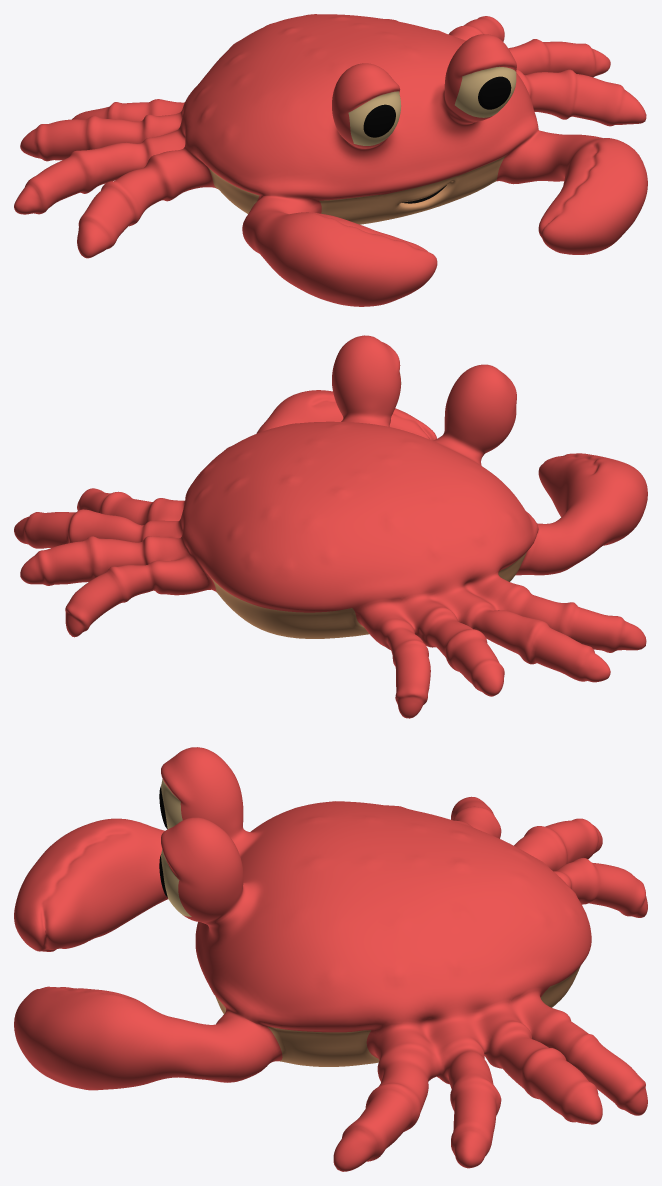
The model's file is crab.fbx.
3 views of the same model, one above another, from view 1: azimuth 30°, elevation 25°; view 2: azimuth 150°, elevation 25°; view 3: azimuth 270°, elevation 25° (orthographic). The views are drawn at different scales.
Parts seen in each view (by area): view 1: 17921_Crab,_baby,_happy_v1_NEW; view 2: 17921_Crab,_baby,_happy_v1_NEW; view 3: 17921_Crab,_baby,_happy_v1_NEW.
Part boxes in pixels (x1=…): 17921_Crab,_baby,_happy_v1_NEW: x1=14, y1=14, x2=647, y2=306; 17921_Crab,_baby,_happy_v1_NEW: x1=14, y1=335, x2=647, y2=718; 17921_Crab,_baby,_happy_v1_NEW: x1=14, y1=747, x2=647, y2=1171.
Size of the model in its own units: 988 by 309 by 754.
